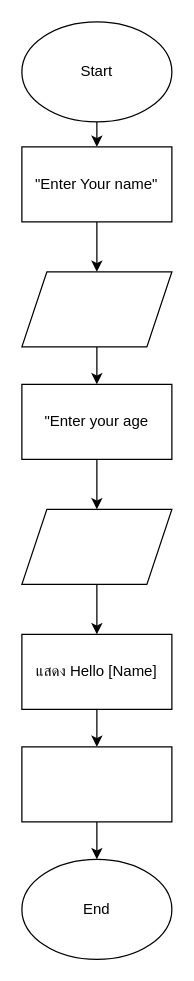
This 194x981 diagram has some shape labels left out. The shapes that lost their labels are listed below. From the top down, each one's box as (x1, y1, x2, y2) in pixels, then its label:
(21, 271, 172, 347): รับค่าName
(21, 508, 172, 584): รับค่าAge
(21, 746, 172, 822): แสดง Age = [Age]
